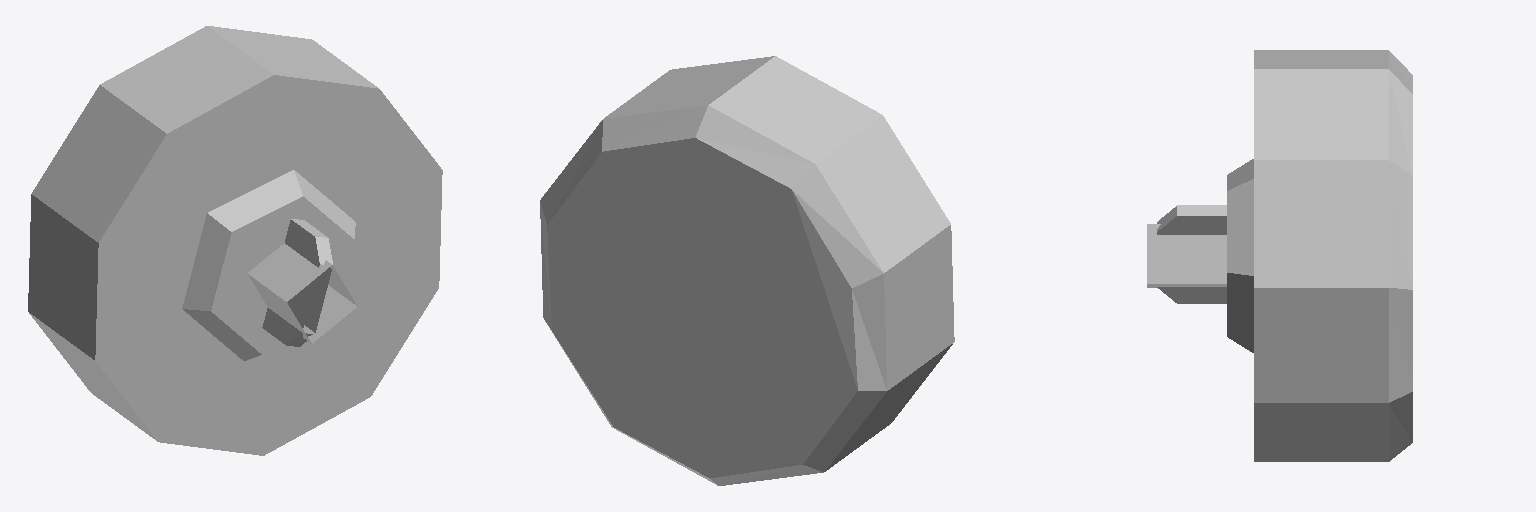
Rendered from wheel194.obj.
3 views of the same model, side by side, from view 1: azimuth 30°, elevation 25°; view 2: azimuth 150°, elevation 25°; view 3: azimuth 270°, elevation 25° (orthographic).
Parts seen in each view (by area): view 1: wheel_low_textures; view 2: wheel_low_textures; view 3: wheel_low_textures.
Boxes of the visible parts, x1=… form: wheel_low_textures: x1=28, y1=26, x2=442, y2=455; wheel_low_textures: x1=540, y1=56, x2=954, y2=485; wheel_low_textures: x1=1147, y1=50, x2=1412, y2=461.
Bounding box in the file's own units: 1.5 × 1.56 × 0.9907.